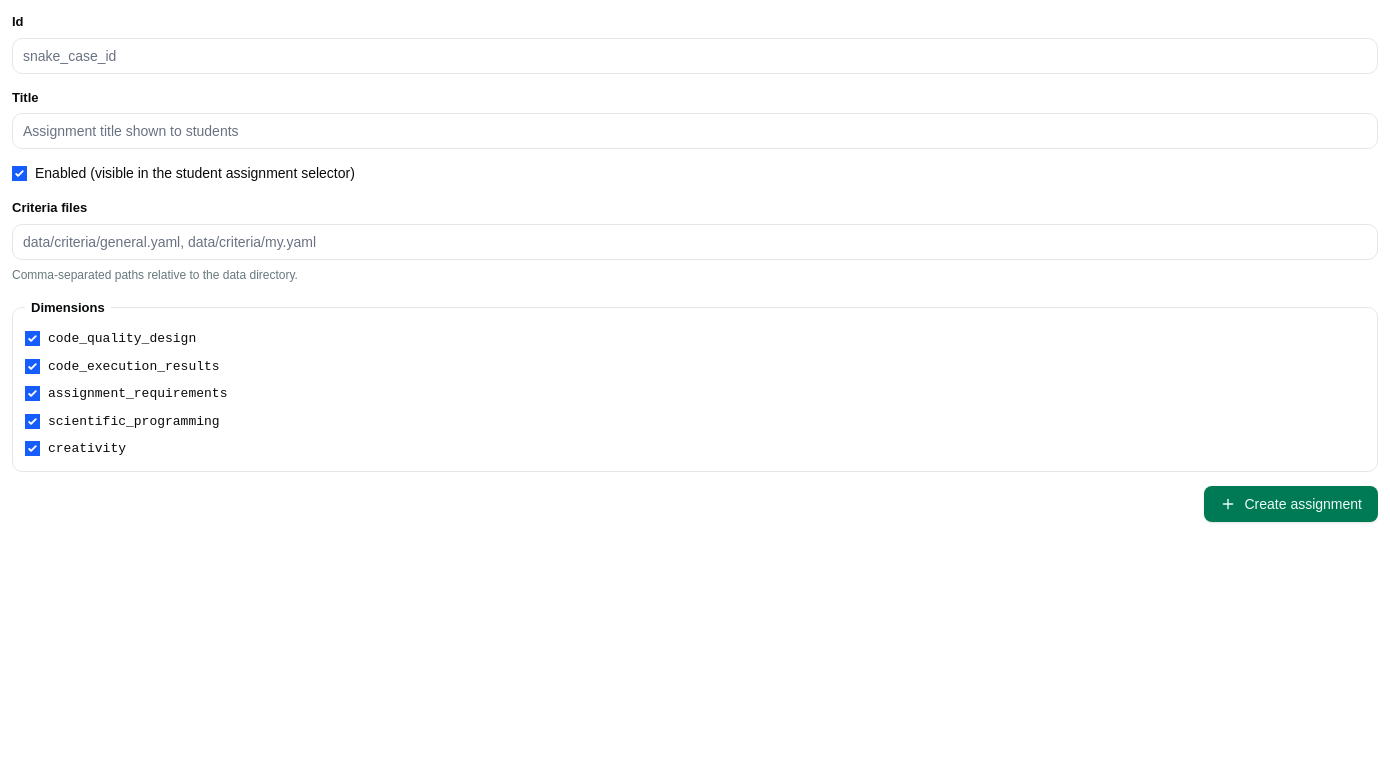
AssignmentForm › surfaces a server rejection as an inline error
Type "x" into the field labelled "Id". click: (695, 56)
box: [12,38,1378,74]
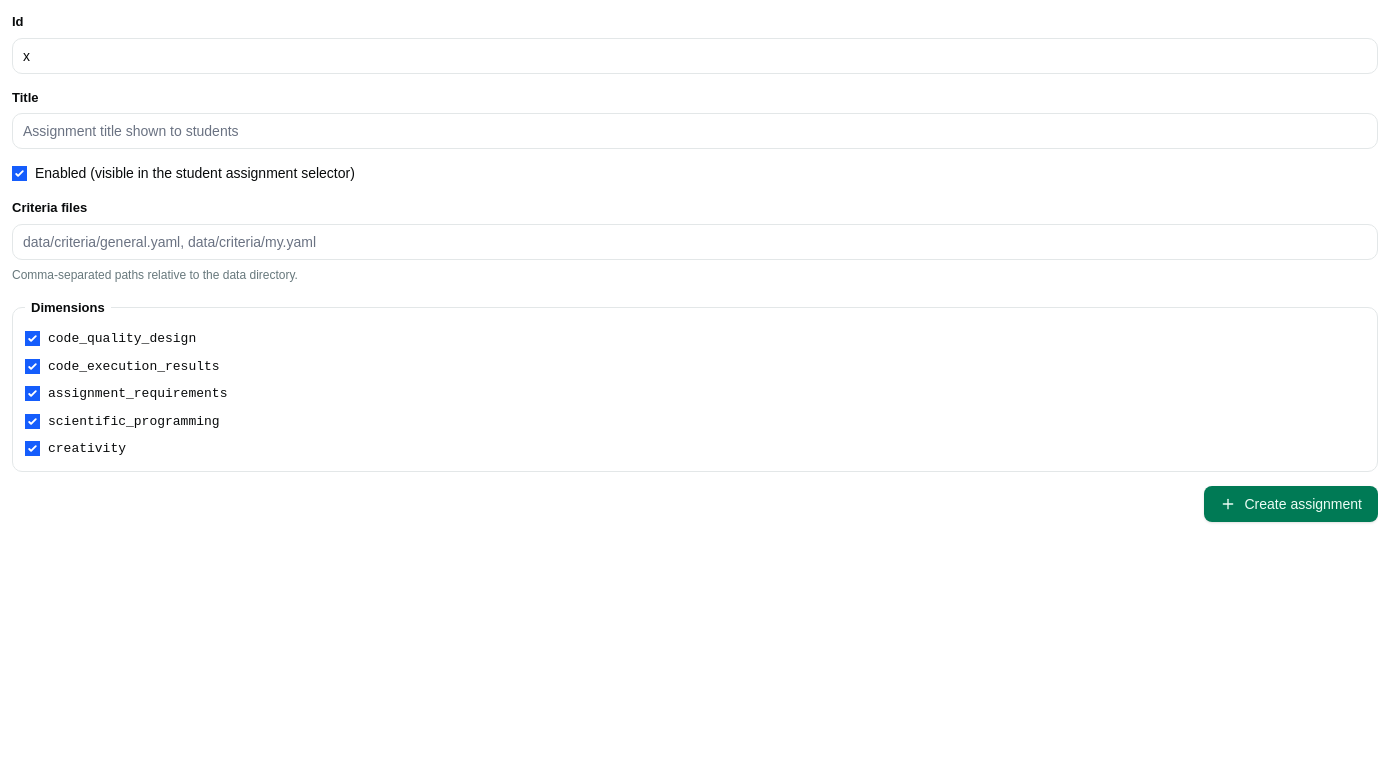
Type "Duplicate" into the field labelled "Title". click: (695, 131)
box: [12,113,1378,149]
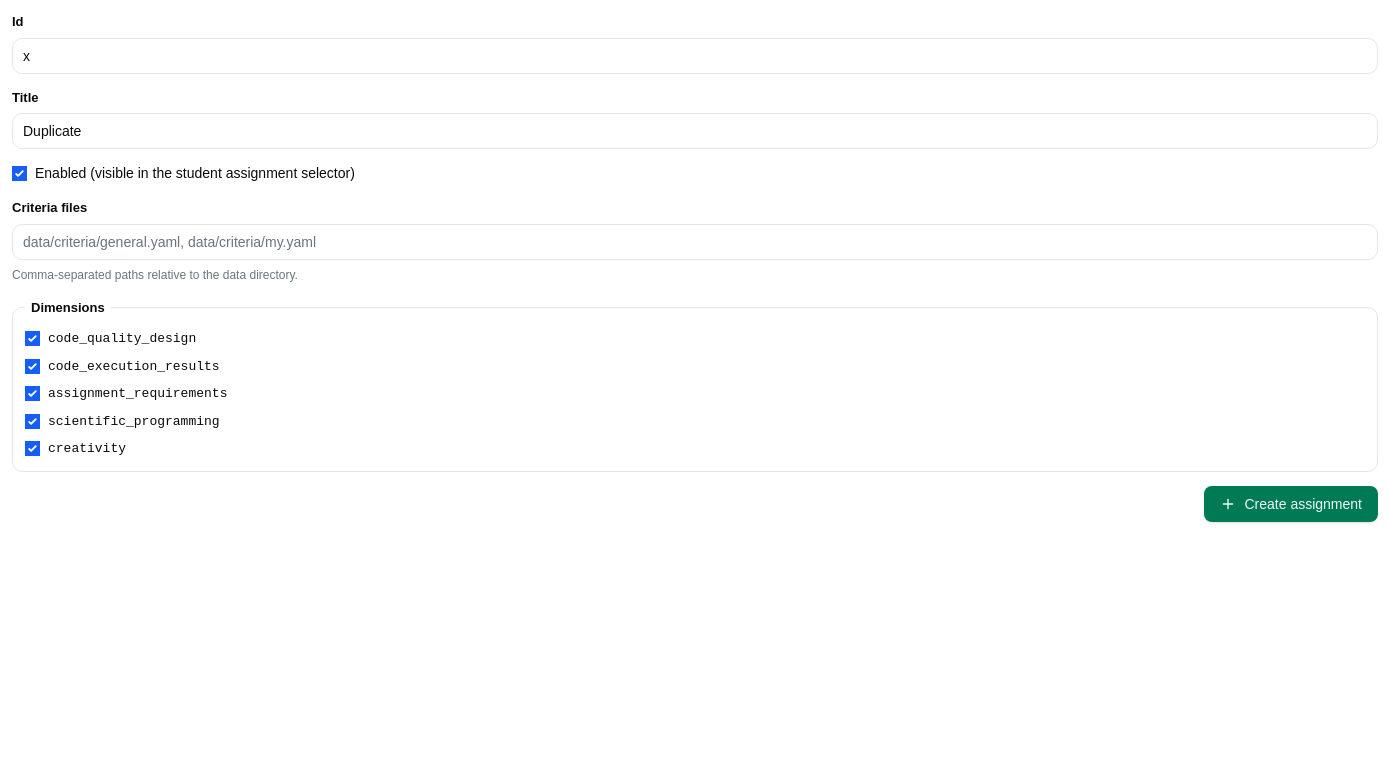
Click the button "Create assignment". click: (1291, 504)
box: [1204,486,1378,522]
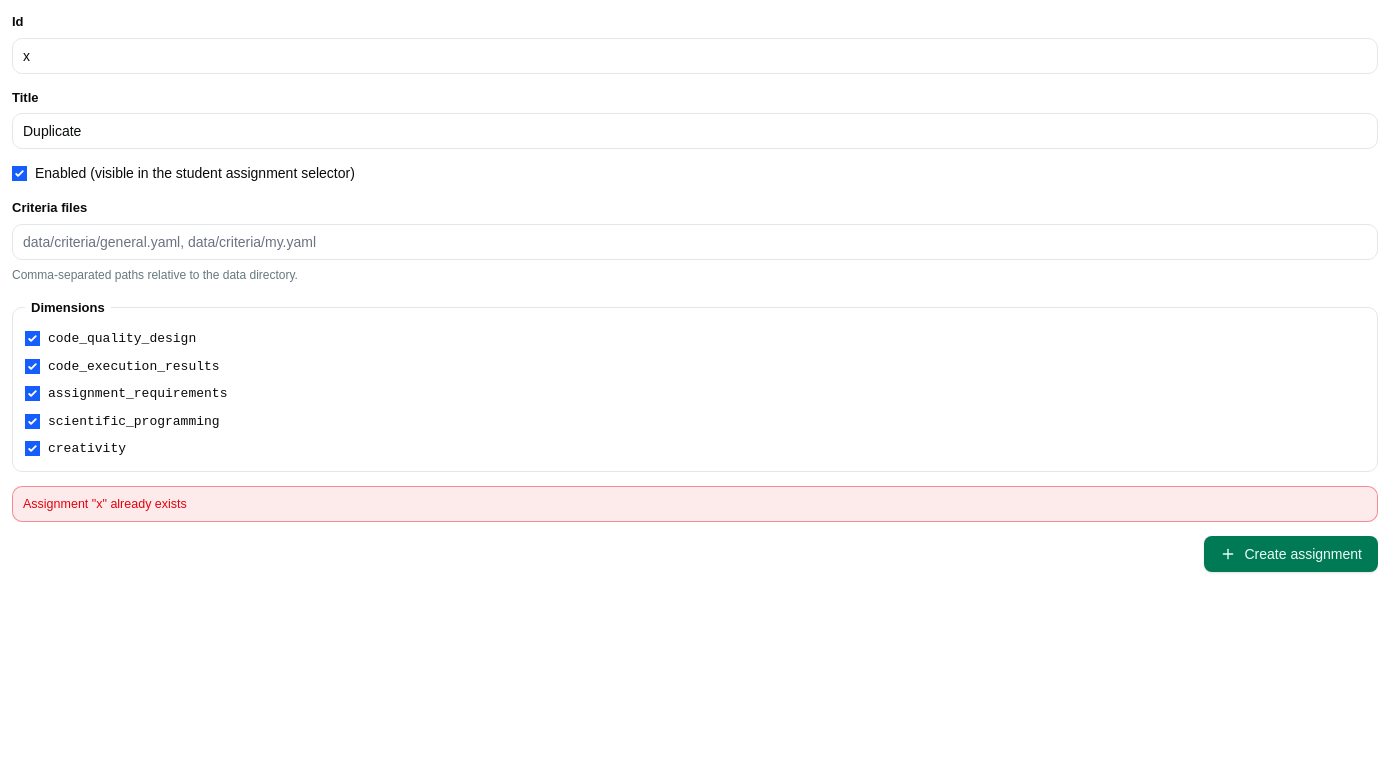
Now the text "Assignment \"x\" already exists" is shown, box [12,486,1378,522]
